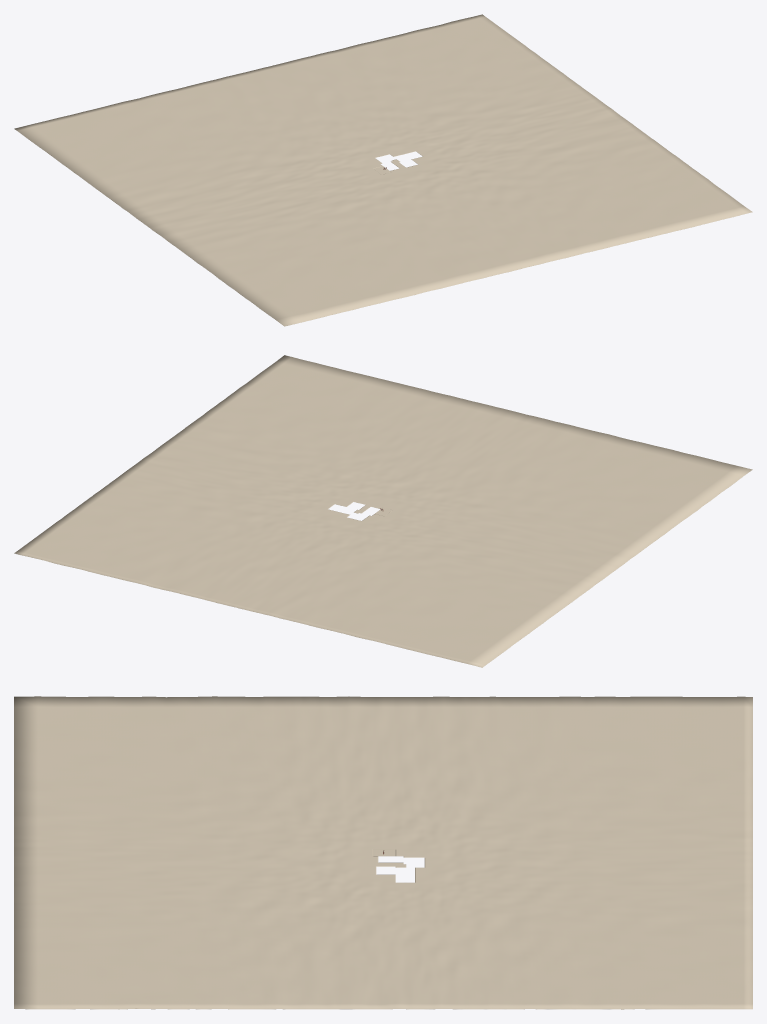
File: hero-baked.glb
3 views of the same model, one above another, from view 1: azimuth 30°, elevation 25°; view 2: azimuth 150°, elevation 25°; view 3: azimuth 270°, elevation 25° (orthographic). The views are drawn at different scales.
Parts seen in each view (by area): view 1: ground_far; view 2: ground_far; view 3: ground_far.
Part boxes in pixels (x1=…): ground_far: x1=14, y1=14, x2=752, y2=326; ground_far: x1=14, y1=355, x2=752, y2=667; ground_far: x1=14, y1=696, x2=752, y2=1009.
Bounding box in the file's own units: 840 × 5.84 × 840.
Materials: 7 (7 with a texture image).
